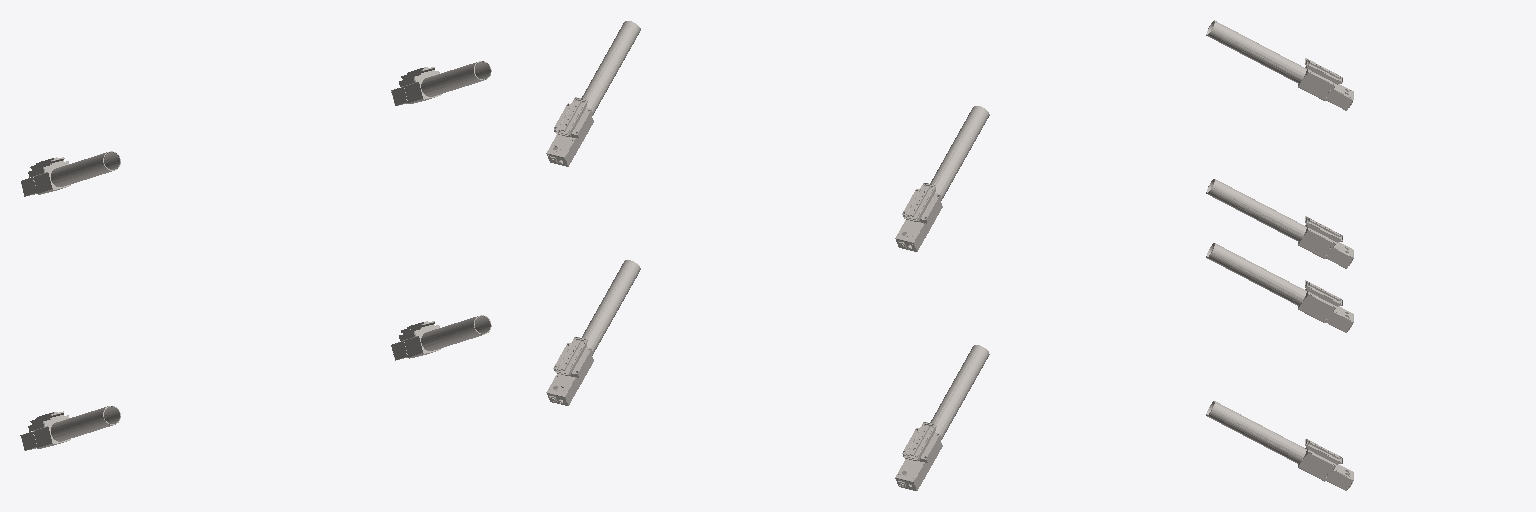
robot.urdf — four_arm_apple_picking_robot:
<?xml version="1.0" encoding="utf-8"?>
<!-- This URDF was automatically created by SolidWorks to URDF Exporter! Originally created by [author] ([email redacted]) 
     Commit Version: 1.6.0-1-g15f4949  Build Version: 1.6.7594.29634
     For more information, please see http://wiki.ros.org/sw_urdf_exporter -->
<robot
  name="four_arm_apple_picking_robot">
  <link
    name="base_link">
    <inertial>
      <origin
        xyz="1.20048560332776 0.00996467389539268 1.0039725602524"
        rpy="0 0 0" />
      <mass
        value="55.8887915039932" />
      <inertia
        ixx="9.76736768565433"
        ixy="-0.00147593294491498"
        ixz="2.74590231314596E-05"
        iyy="10.1194370743713"
        iyz="0.0200117573042444"
        izz="0.429739697536982" />
    </inertial>
    <visual>
      <origin
        xyz="0 0 0"
        rpy="0 0 0" />
      <geometry>
        <mesh
          filename="package://four_arm_apple_picking_robot/meshes/base_link.STL" />
      </geometry>
      <material
        name="">
        <color
          rgba="0.898039215686275 0.917647058823529 0.929411764705882 1" />
      </material>
    </visual>
    <collision>
      <origin
        xyz="0 0 0"
        rpy="0 0 0" />
      <geometry>
        <mesh
          filename="package://four_arm_apple_picking_robot/meshes/base_link.STL" />
      </geometry>
    </collision>
  </link>
  <link
    name="vertical_motion_lower_arm_Link">
    <inertial>
      <origin
        xyz="0.92183675840469 -0.189414832039036 -0.277478922900619"
        rpy="0 0 0" />
      <mass
        value="39.8875186866351" />
      <inertia
        ixx="0.0720815435739755"
        ixy="-0.000301866562440358"
        ixz="0.000554773258514539"
        iyy="8.93501305158888"
        iyz="-0.000459469518445038"
        izz="8.92202746477089" />
    </inertial>
    <visual>
      <origin
        xyz="0 0 0"
        rpy="0 0 0" />
      <geometry>
        <mesh
          filename="package://four_arm_apple_picking_robot/meshes/vertical_motion_lower_arm_Link.STL" />
      </geometry>
      <material
        name="">
        <color
          rgba="0.898039215686275 0.917647058823529 0.929411764705882 1" />
      </material>
    </visual>
    <collision>
      <origin
        xyz="0 0 0"
        rpy="0 0 0" />
      <geometry>
        <mesh
          filename="package://four_arm_apple_picking_robot/meshes/vertical_motion_lower_arm_Link.STL" />
      </geometry>
    </collision>
  </link>
  <joint
    name="vertical_motion_lower_arm_joint"
    type="prismatic">
    <origin
      xyz="0.020573 -0.045667 0.85337"
      rpy="0 0 0" />
    <parent
      link="base_link" />
    <child
      link="vertical_motion_lower_arm_Link" />
    <axis
      xyz="0 0 1" />
    <limit
      lower="0"
      upper="0.675"
      effort="500"
      velocity="0.5" />
  </joint>
  <link
    name="horizontal_motion_lower_left_arm_Link">
    <inertial>
      <origin
        xyz="-0.0937530748704592 0.157083196004726 -0.164416376353018"
        rpy="0 0 0" />
      <mass
        value="5.00091180377085" />
      <inertia
        ixx="0.104058912630245"
        ixy="-2.92163183294817E-06"
        ixz="-5.26536440265388E-06"
        iyy="0.0312141684583302"
        iyz="0.0429110209884728"
        izz="0.0802747931681423" />
    </inertial>
    <visual>
      <origin
        xyz="0 0 0"
        rpy="0 0 0" />
      <geometry>
        <mesh
          filename="package://four_arm_apple_picking_robot/meshes/horizontal_motion_lower_left_arm_Link.STL" />
      </geometry>
      <material
        name="">
        <color
          rgba="0.898039215686275 0.917647058823529 0.929411764705882 1" />
      </material>
    </visual>
    <collision>
      <origin
        xyz="0 0 0"
        rpy="0 0 0" />
      <geometry>
        <mesh
          filename="package://four_arm_apple_picking_robot/meshes/horizontal_motion_lower_left_arm_Link.STL" />
      </geometry>
    </collision>
  </link>
  <joint
    name="horizontal_motion_lower_left_arm_joint"
    type="prismatic">
    <origin
      xyz="0.211 -0.16157 -0.23973"
      rpy="0 0 0" />
    <parent
      link="vertical_motion_lower_arm_Link" />
    <child
      link="horizontal_motion_lower_left_arm_Link" />
    <axis
      xyz="-1 0 0" />
    <limit
      lower="-1.33"
      upper="0"
      effort="200"
      velocity="0.5" />
  </joint>
  <link
    name="stretch1_motion_lower_left_arm_Link">
    <inertial>
      <origin
        xyz="-9.40034346438579E-05 0.257021645272143 -0.0580686973508295"
        rpy="0 0 0" />
      <mass
        value="1.71119094381812" />
      <inertia
        ixx="0.0216036570541051"
        ixy="2.01005930343236E-06"
        ixz="-1.89008255285572E-06"
        iyy="0.00223420145137601"
        iyz="-1.82710489698482E-05"
        izz="0.0218797697318048" />
    </inertial>
    <visual>
      <origin
        xyz="0 0 0"
        rpy="0 0 0" />
      <geometry>
        <mesh
          filename="package://four_arm_apple_picking_robot/meshes/stretch1_motion_lower_left_arm_Link.STL" />
      </geometry>
      <material
        name="">
        <color
          rgba="0.776470588235294 0.756862745098039 0.737254901960784 1" />
      </material>
    </visual>
    <collision>
      <origin
        xyz="0 0 0"
        rpy="0 0 0" />
      <geometry>
        <mesh
          filename="package://four_arm_apple_picking_robot/meshes/stretch1_motion_lower_left_arm_Link.STL" />
      </geometry>
    </collision>
  </link>
  <joint
    name="stretch1_motion_lower_left_arm_joint"
    type="prismatic">
    <origin
      xyz="-0.085 0.066385 -0.17535"
      rpy="0.5236 0 3.1416" />
    <parent
      link="horizontal_motion_lower_left_arm_Link" />
    <child
      link="stretch1_motion_lower_left_arm_Link" />
    <axis
      xyz="0 -1 0" />
    <limit
      lower="-0.52"
      upper="0"
      effort="100"
      velocity="0.5" />
  </joint>
  <link
    name="stretch2_motion_lower_left_arm_Link">
    <inertial>
      <origin
        xyz="0.00234960967982101 -0.0508191652743764 -0.00244228110053801"
        rpy="0 0 0" />
      <mass
        value="1.04540560930553" />
      <inertia
        ixx="0.0265218429167203"
        ixy="2.31560284291579E-08"
        ixz="-1.5120792286752E-07"
        iyy="0.000850183324861688"
        iyz="-5.14469738142876E-08"
        izz="0.0265226368792159" />
    </inertial>
    <visual>
      <origin
        xyz="0 0 0"
        rpy="0 0 0" />
      <geometry>
        <mesh
          filename="package://four_arm_apple_picking_robot/meshes/stretch2_motion_lower_left_arm_Link.STL" />
      </geometry>
      <material
        name="">
        <color
          rgba="0.898039215686275 0.917647058823529 0.929411764705882 1" />
      </material>
    </visual>
    <collision>
      <origin
        xyz="0 0 0"
        rpy="0 0 0" />
      <geometry>
        <mesh
          filename="package://four_arm_apple_picking_robot/meshes/stretch2_motion_lower_left_arm_Link.STL" />
      </geometry>
    </collision>
  </link>
  <joint
    name="stretch2_motion_lower_left_arm_joint"
    type="prismatic">
    <origin
      xyz="-0.002306 0.73268 -0.065269"
      rpy="0 0 0" />
    <parent
      link="stretch1_motion_lower_left_arm_Link" />
    <child
      link="stretch2_motion_lower_left_arm_Link" />
    <axis
      xyz="0 -1 0" />
    <limit
      lower="-0.4"
      upper="0"
      effort="50"
      velocity="0.5" />
  </joint>
  <link
    name="horizontal_motion_lower_right_arm_Link">
    <inertial>
      <origin
        xyz="0.0938885999822825 0.0715454470608992 -0.164016694787964"
        rpy="0 0 0" />
      <mass
        value="4.99311275799924" />
      <inertia
        ixx="0.104058053478412"
        ixy="2.89593266032469E-06"
        ixz="4.81042968592379E-06"
        iyy="0.0312138746046444"
        iyz="0.0429115428565867"
        izz="0.0802727465252147" />
    </inertial>
    <visual>
      <origin
        xyz="0 0 0"
        rpy="0 0 0" />
      <geometry>
        <mesh
          filename="package://four_arm_apple_picking_robot/meshes/horizontal_motion_lower_right_arm_Link.STL" />
      </geometry>
      <material
        name="">
        <color
          rgba="0.898039215686275 0.917647058823529 0.929411764705882 1" />
      </material>
    </visual>
    <collision>
      <origin
        xyz="0 0 0"
        rpy="0 0 0" />
      <geometry>
        <mesh
          filename="package://four_arm_apple_picking_robot/meshes/horizontal_motion_lower_right_arm_Link.STL" />
      </geometry>
    </collision>
  </link>
  <joint
    name="horizontal_motion_lower_right_arm_joint"
    type="prismatic">
    <origin
      xyz="1.641 -0.076571 -0.23973"
      rpy="0 0 0" />
    <parent
      link="vertical_motion_lower_arm_Link" />
    <child
      link="horizontal_motion_lower_right_arm_Link" />
    <axis
      xyz="-1 0 0" />
    <limit
      lower="0"
      upper="1.33"
      effort="200"
      velocity="0.5" />
  </joint>
  <link
    name="stretch1_motion_lower_right_arm_Link">
    <inertial>
      <origin
        xyz="-9.4003434643497E-05 0.257021645272143 -0.0580686973508286"
        rpy="0 0 0" />
      <mass
        value="1.71119094381812" />
      <inertia
        ixx="0.0216036570541051"
        ixy="2.01005930343546E-06"
        ixz="-1.89008255285756E-06"
        iyy="0.00223420145137602"
        iyz="-1.82710489698496E-05"
        izz="0.0218797697318048" />
    </inertial>
    <visual>
      <origin
        xyz="0 0 0"
        rpy="0 0 0" />
      <geometry>
        <mesh
          filename="package://four_arm_apple_picking_robot/meshes/stretch1_motion_lower_right_arm_Link.STL" />
      </geometry>
      <material
        name="">
        <color
          rgba="0.776470588235294 0.756862745098039 0.737254901960784 1" />
      </material>
    </visual>
    <collision>
      <origin
        xyz="0 0 0"
        rpy="0 0 0" />
      <geometry>
        <mesh
          filename="package://four_arm_apple_picking_robot/meshes/stretch1_motion_lower_right_arm_Link.STL" />
      </geometry>
    </collision>
  </link>
  <joint
    name="stretch1_motion_lower_right_arm_joint"
    type="prismatic">
    <origin
      xyz="0.085 -0.018615 -0.17535"
      rpy="0.5236 0 3.1416" />
    <parent
      link="horizontal_motion_lower_right_arm_Link" />
    <child
      link="stretch1_motion_lower_right_arm_Link" />
    <axis
      xyz="0 -1 0" />
    <limit
      lower="-0.52"
      upper="0"
      effort="100"
      velocity="0.5" />
  </joint>
  <link
    name="stretch2_motion_lower_right_arm_Link">
    <inertial>
      <origin
        xyz="0.00234960967982301 -0.0508191652743684 -0.00244228110054046"
        rpy="0 0 0" />
      <mass
        value="1.04540560930546" />
      <inertia
        ixx="0.0265218429167191"
        ixy="2.31560286350632E-08"
        ixz="-1.51207922859386E-07"
        iyy="0.000850183324861653"
        iyz="-5.14469738829989E-08"
        izz="0.0265226368792147" />
    </inertial>
    <visual>
      <origin
        xyz="0 0 0"
        rpy="0 0 0" />
      <geometry>
        <mesh
          filename="package://four_arm_apple_picking_robot/meshes/stretch2_motion_lower_right_arm_Link.STL" />
      </geometry>
      <material
        name="">
        <color
          rgba="1 0 0 1" />
      </material>
    </visual>
    <collision>
      <origin
        xyz="0 0 0"
        rpy="0 0 0" />
      <geometry>
        <mesh
          filename="package://four_arm_apple_picking_robot/meshes/stretch2_motion_lower_right_arm_Link.STL" />
      </geometry>
    </collision>
  </link>
  <joint
    name="stretch2_motion_lower_right_arm_joint"
    type="prismatic">
    <origin
      xyz="-0.002306 0.73268 -0.065269"
      rpy="0 0 0" />
    <parent
      link="stretch1_motion_lower_right_arm_Link" />
    <child
      link="stretch2_motion_lower_right_arm_Link" />
    <axis
      xyz="0 -1 0" />
    <limit
      lower="-0.4"
      upper="0"
      effort="50"
      velocity="0.5" />
  </joint>
  <link
    name="vertical_motion_upper_arm_Link">
    <inertial>
      <origin
        xyz="1.00577540818045 -0.19002576869878 -0.278064745731748"
        rpy="0 0 0" />
      <mass
        value="39.8490558547081" />
      <inertia
        ixx="0.0703732734817126"
        ixy="0.000184836998741654"
        ixz="0.000554411225366761"
        iyy="8.93460871300024"
        iyz="-0.000459586025494624"
        izz="8.91994937924726" />
    </inertial>
    <visual>
      <origin
        xyz="0 0 0"
        rpy="0 0 0" />
      <geometry>
        <mesh
          filename="package://four_arm_apple_picking_robot/meshes/vertical_motion_upper_arm_Link.STL" />
      </geometry>
      <material
        name="">
        <color
          rgba="0.898039215686275 0.917647058823529 0.929411764705882 1" />
      </material>
    </visual>
    <collision>
      <origin
        xyz="0 0 0"
        rpy="0 0 0" />
      <geometry>
        <mesh
          filename="package://four_arm_apple_picking_robot/meshes/vertical_motion_upper_arm_Link.STL" />
      </geometry>
    </collision>
  </link>
  <joint
    name="vertical_motion_upper_arm_joint"
    type="prismatic">
    <origin
      xyz="-0.064427 -0.045667 1.9024"
      rpy="0 0 0" />
    <parent
      link="base_link" />
    <child
      link="vertical_motion_upper_arm_Link" />
    <axis
      xyz="0 0 1" />
    <limit
      lower="0"
      upper="0.675"
      effort="500"
      velocity="0.5" />
  </joint>
  <link
    name="horizontal_motion_upper_left_arm_Link">
    <inertial>
      <origin
        xyz="-0.0937530748704595 0.157083196004725 -0.164416376353017"
        rpy="0 0 0" />
      <mass
        value="5.00091180377084" />
      <inertia
        ixx="0.104058912630244"
        ixy="-2.92163183283876E-06"
        ixz="-5.26536440272013E-06"
        iyy="0.0312141684583301"
        iyz="0.0429110209884727"
        izz="0.080274793168142" />
    </inertial>
    <visual>
      <origin
        xyz="0 0 0"
        rpy="0 0 0" />
      <geometry>
        <mesh
          filename="package://four_arm_apple_picking_robot/meshes/horizontal_motion_upper_left_arm_Link.STL" />
      </geometry>
      <material
        name="">
        <color
          rgba="0.898039215686275 0.917647058823529 0.929411764705882 1" />
      </material>
    </visual>
    <collision>
      <origin
        xyz="0 0 0"
        rpy="0 0 0" />
      <geometry>
        <mesh
          filename="package://four_arm_apple_picking_robot/meshes/horizontal_motion_upper_left_arm_Link.STL" />
      </geometry>
    </collision>
  </link>
  <joint
    name="horizontal_motion_upper_left_arm_joint"
    type="prismatic">
    <origin
      xyz="0.296 -0.16157 -0.23973"
      rpy="0 0 0" />
    <parent
      link="vertical_motion_upper_arm_Link" />
    <child
      link="horizontal_motion_upper_left_arm_Link" />
    <axis
      xyz="1 0 0" />
    <limit
      lower="0"
      upper="1.33"
      effort="200"
      velocity="0.5" />
  </joint>
  <link
    name="stretch1_motion_upper_left_arm_Link">
    <inertial>
      <origin
        xyz="-9.40101275108962E-05 0.257021755253652 -0.0580686938817807"
        rpy="0 0 0" />
      <mass
        value="1.71119036478191" />
      <inertia
        ixx="0.021603657035151"
        ixy="2.01005930343481E-06"
        ixz="-1.89008255247706E-06"
        iyy="0.00223420141576257"
        iyz="-1.82710489698322E-05"
        izz="0.0218797697128511" />
    </inertial>
    <visual>
      <origin
        xyz="0 0 0"
        rpy="0 0 0" />
      <geometry>
        <mesh
          filename="package://four_arm_apple_picking_robot/meshes/stretch1_motion_upper_left_arm_Link.STL" />
      </geometry>
      <material
        name="">
        <color
          rgba="0.776470588235294 0.756862745098039 0.737254901960784 1" />
      </material>
    </visual>
    <collision>
      <origin
        xyz="0 0 0"
        rpy="0 0 0" />
      <geometry>
        <mesh
          filename="package://four_arm_apple_picking_robot/meshes/stretch1_motion_upper_left_arm_Link.STL" />
      </geometry>
    </collision>
  </link>
  <joint
    name="stretch1_motion_upper_left_arm_joint"
    type="prismatic">
    <origin
      xyz="-0.085 0.066385 -0.17535"
      rpy="0.5236 0 3.1416" />
    <parent
      link="horizontal_motion_upper_left_arm_Link" />
    <child
      link="stretch1_motion_upper_left_arm_Link" />
    <axis
      xyz="0 -1 0" />
    <limit
      lower="-0.52"
      upper="0"
      effort="100"
      velocity="0.5" />
  </joint>
  <link
    name="stretch2_motion_upper_left_arm_Link">
    <inertial>
      <origin
        xyz="0.00234960967982117 -0.0508191652744018 -0.00244228110053757"
        rpy="0 0 0" />
      <mass
        value="1.04540560930552" />
      <inertia
        ixx="0.0265218429167204"
        ixy="2.31560284310027E-08"
        ixz="-1.51207922856131E-07"
        iyy="0.000850183324861702"
        iyz="-5.14469738348603E-08"
        izz="0.026522636879216" />
    </inertial>
    <visual>
      <origin
        xyz="0 0 0"
        rpy="0 0 0" />
      <geometry>
        <mesh
          filename="package://four_arm_apple_picking_robot/meshes/stretch2_motion_upper_left_arm_Link.STL" />
      </geometry>
      <material
        name="">
        <color
          rgba="0.898039215686275 0.917647058823529 0.929411764705882 1" />
      </material>
    </visual>
    <collision>
      <origin
        xyz="0 0 0"
        rpy="0 0 0" />
      <geometry>
        <mesh
          filename="package://four_arm_apple_picking_robot/meshes/stretch2_motion_upper_left_arm_Link.STL" />
      </geometry>
    </collision>
  </link>
  <joint
    name="stretch2_motion_upper_left_arm_joint"
    type="prismatic">
    <origin
      xyz="-0.002306 0.73268 -0.065269"
      rpy="0 0 0" />
    <parent
      link="stretch1_motion_upper_left_arm_Link" />
    <child
      link="stretch2_motion_upper_left_arm_Link" />
    <axis
      xyz="0 -1 0" />
    <limit
      lower="-0.4"
      upper="0"
      effort="50"
      velocity="0.5" />
  </joint>
  <link
    name="horizontal_motion_upper_right_arm_Link">
    <inertial>
      <origin
        xyz="0.0938885999822823 0.0715454470605174 -0.164016694788185"
        rpy="0 0 0" />
      <mass
        value="4.99311275799924" />
      <inertia
        ixx="0.104058053478412"
        ixy="2.89593266043014E-06"
        ixz="4.81042968587017E-06"
        iyy="0.0312138746046444"
        iyz="0.0429115428565867"
        izz="0.0802727465252146" />
    </inertial>
    <visual>
      <origin
        xyz="0 0 0"
        rpy="0 0 0" />
      <geometry>
        <mesh
          filename="package://four_arm_apple_picking_robot/meshes/horizontal_motion_upper_right_arm_Link.STL" />
      </geometry>
      <material
        name="">
        <color
          rgba="0.898039215686275 0.917647058823529 0.929411764705882 1" />
      </material>
    </visual>
    <collision>
      <origin
        xyz="0 0 0"
        rpy="0 0 0" />
      <geometry>
        <mesh
          filename="package://four_arm_apple_picking_robot/meshes/horizontal_motion_upper_right_arm_Link.STL" />
      </geometry>
    </collision>
  </link>
  <joint
    name="horizontal_motion_upper_right_arm_joint"
    type="prismatic">
    <origin
      xyz="1.726 -0.076571 -0.23973"
      rpy="0 0 0" />
    <parent
      link="vertical_motion_upper_arm_Link" />
    <child
      link="horizontal_motion_upper_right_arm_Link" />
    <axis
      xyz="1 0 0" />
    <limit
      lower="-1.39"
      upper="0"
      effort="200"
      velocity="0.5" />
  </joint>
  <link
    name="stretch1_motion_upper_right_arm_Link">
    <inertial>
      <origin
        xyz="-9.40034346439411E-05 0.25702164527214 -0.0580686973508291"
        rpy="0 0 0" />
      <mass
        value="1.71119094381813" />
      <inertia
        ixx="0.0216036570541058"
        ixy="2.01005930343175E-06"
        ixz="-1.89008255285722E-06"
        iyy="0.00223420145137603"
        iyz="-1.82710489698343E-05"
        izz="0.0218797697318054" />
    </inertial>
    <visual>
      <origin
        xyz="0 0 0"
        rpy="0 0 0" />
      <geometry>
        <mesh
          filename="package://four_arm_apple_picking_robot/meshes/stretch1_motion_upper_right_arm_Link.STL" />
      </geometry>
      <material
        name="">
        <color
          rgba="0.776470588235294 0.756862745098039 0.737254901960784 1" />
      </material>
    </visual>
    <collision>
      <origin
        xyz="0 0 0"
        rpy="0 0 0" />
      <geometry>
        <mesh
          filename="package://four_arm_apple_picking_robot/meshes/stretch1_motion_upper_right_arm_Link.STL" />
      </geometry>
    </collision>
  </link>
  <joint
    name="stretch1_motion_upper_right_arm_joint"
    type="prismatic">
    <origin
      xyz="0.085 -0.018615 -0.17535"
      rpy="0.5236 0 3.1416" />
    <parent
      link="horizontal_motion_upper_right_arm_Link" />
    <child
      link="stretch1_motion_upper_right_arm_Link" />
    <axis
      xyz="0 1 0" />
    <limit
      lower="-0.52"
      upper="0"
      effort="100"
      velocity="0.5" />
  </joint>
  <link
    name="stretch2_motion_upper_right_arm_Link">
    <inertial>
      <origin
        xyz="0.00234960967982101 -0.0508191652743968 -0.00244228110053979"
        rpy="0 0 0" />
      <mass
        value="1.04540560930551" />
      <inertia
        ixx="0.0265218429167202"
        ixy="2.31560285021933E-08"
        ixz="-1.5120792283119E-07"
        iyy="0.000850183324861697"
        iyz="-5.14469738912117E-08"
        izz="0.0265226368792158" />
    </inertial>
    <visual>
      <origin
        xyz="0 0 0"
        rpy="0 0 0" />
      <geometry>
        <mesh
          filename="package://four_arm_apple_picking_robot/meshes/stretch2_motion_upper_right_arm_Link.STL" />
      </geometry>
      <material
        name="">
        <color
          rgba="1 0 0 1" />
      </material>
    </visual>
    <collision>
      <origin
        xyz="0 0 0"
        rpy="0 0 0" />
      <geometry>
        <mesh
          filename="package://four_arm_apple_picking_robot/meshes/stretch2_motion_upper_right_arm_Link.STL" />
      </geometry>
    </collision>
  </link>
  <joint
    name="stretch2_motion_upper_right_arm_joint"
    type="prismatic">
    <origin
      xyz="-0.002306 0.73268 -0.065269"
      rpy="0 0 0" />
    <parent
      link="stretch1_motion_upper_right_arm_Link" />
    <child
      link="stretch2_motion_upper_right_arm_Link" />
    <axis
      xyz="0 -1 0" />
    <limit
      lower="-0.4"
      upper="0"
      effort="50"
      velocity="0.5" />
  </joint>
</robot>

--- Render facts (derived) ---
Views: 3 orthographic renders of the robot side by side, from view 1: azimuth 30°, elevation 25°; view 2: azimuth 150°, elevation 25°; view 3: azimuth 270°, elevation 25°.
Model four_arm_apple_picking_robot with 15 links and 14 joints (14 prismatic), rooted at base_link, posed all joints at 0.
Visible links, largest first — view 1: stretch1_motion_upper_left_arm_Link, stretch1_motion_lower_left_arm_Link, stretch1_motion_lower_right_arm_Link, stretch1_motion_upper_right_arm_Link; view 2: stretch1_motion_lower_left_arm_Link, stretch1_motion_upper_left_arm_Link, stretch1_motion_lower_right_arm_Link, stretch1_motion_upper_right_arm_Link; view 3: stretch1_motion_upper_left_arm_Link, stretch1_motion_lower_right_arm_Link, stretch1_motion_upper_right_arm_Link, stretch1_motion_lower_left_arm_Link.
Boxes of the visible links, x1=… form: stretch1_motion_upper_left_arm_Link: x1=21, y1=151, x2=120, y2=196; stretch1_motion_lower_left_arm_Link: x1=20, y1=406, x2=120, y2=450; stretch1_motion_lower_right_arm_Link: x1=391, y1=315, x2=491, y2=360; stretch1_motion_upper_right_arm_Link: x1=391, y1=61, x2=491, y2=105; stretch1_motion_lower_left_arm_Link: x1=895, y1=345, x2=989, y2=490; stretch1_motion_upper_left_arm_Link: x1=895, y1=106, x2=989, y2=251; stretch1_motion_lower_right_arm_Link: x1=546, y1=260, x2=640, y2=405; stretch1_motion_upper_right_arm_Link: x1=546, y1=21, x2=640, y2=166; stretch1_motion_upper_left_arm_Link: x1=1206, y1=20, x2=1353, y2=110; stretch1_motion_lower_right_arm_Link: x1=1206, y1=401, x2=1353, y2=490; stretch1_motion_upper_right_arm_Link: x1=1206, y1=179, x2=1353, y2=268; stretch1_motion_lower_left_arm_Link: x1=1206, y1=243, x2=1353, y2=332.
Size in the robot's own frame: 1.71 by 0.6301 by 1.45 metres.
4 mesh visuals loaded from 15 distinct referenced files (4 binary STL); not drawn: 11 (reference not matched to a file when rendering).